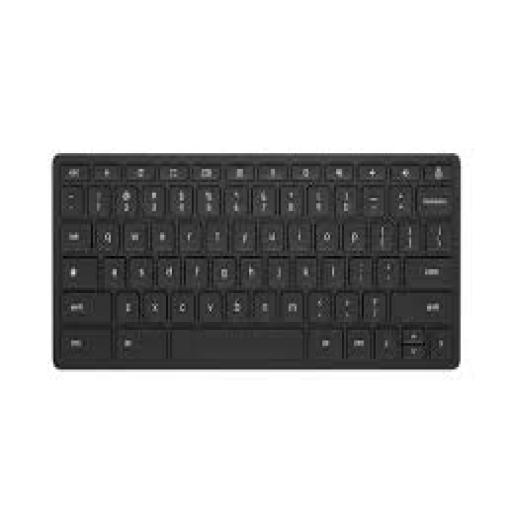KEYBOARD-2: (53, 153, 459, 364)
